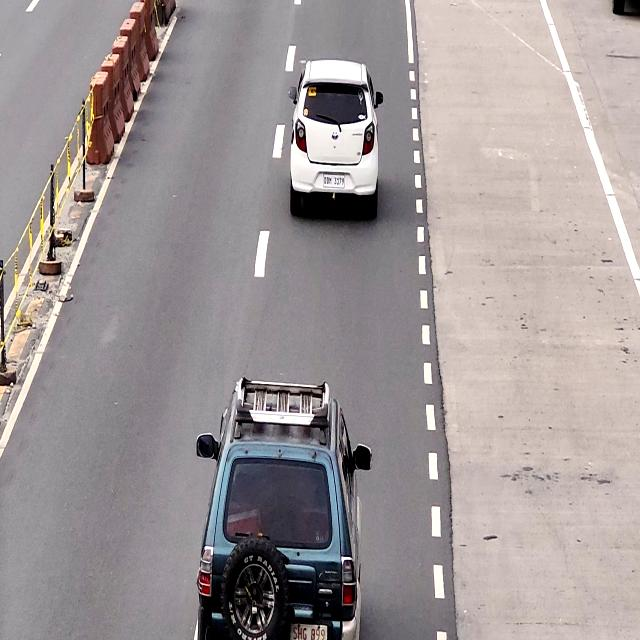Car: (200, 381, 363, 640), (288, 63, 382, 216)
License-Plate: (290, 622, 330, 640), (322, 173, 345, 188)
